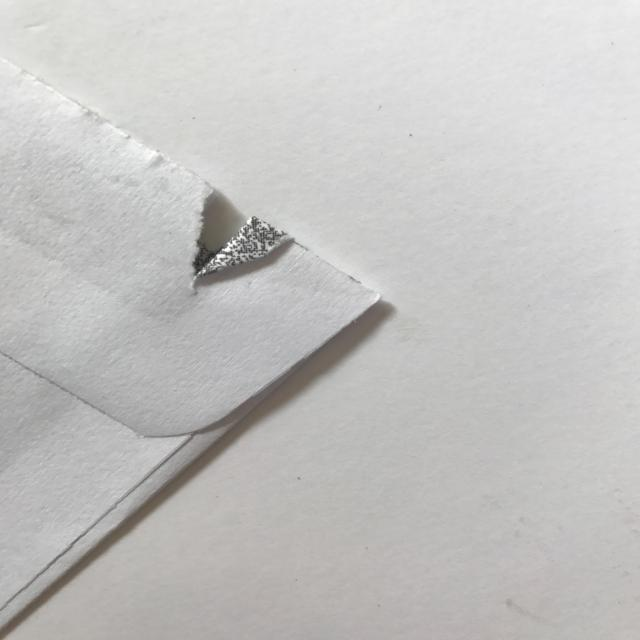Paper: (0, 33, 403, 640)
